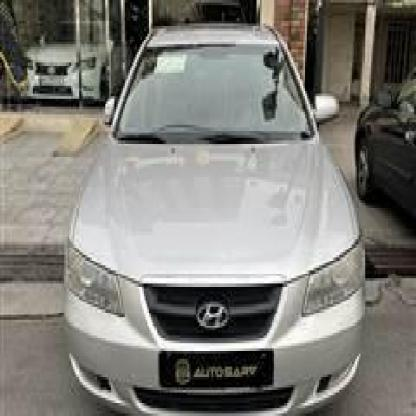Car: (67, 10, 360, 416), (355, 49, 416, 251), (17, 10, 125, 112)
